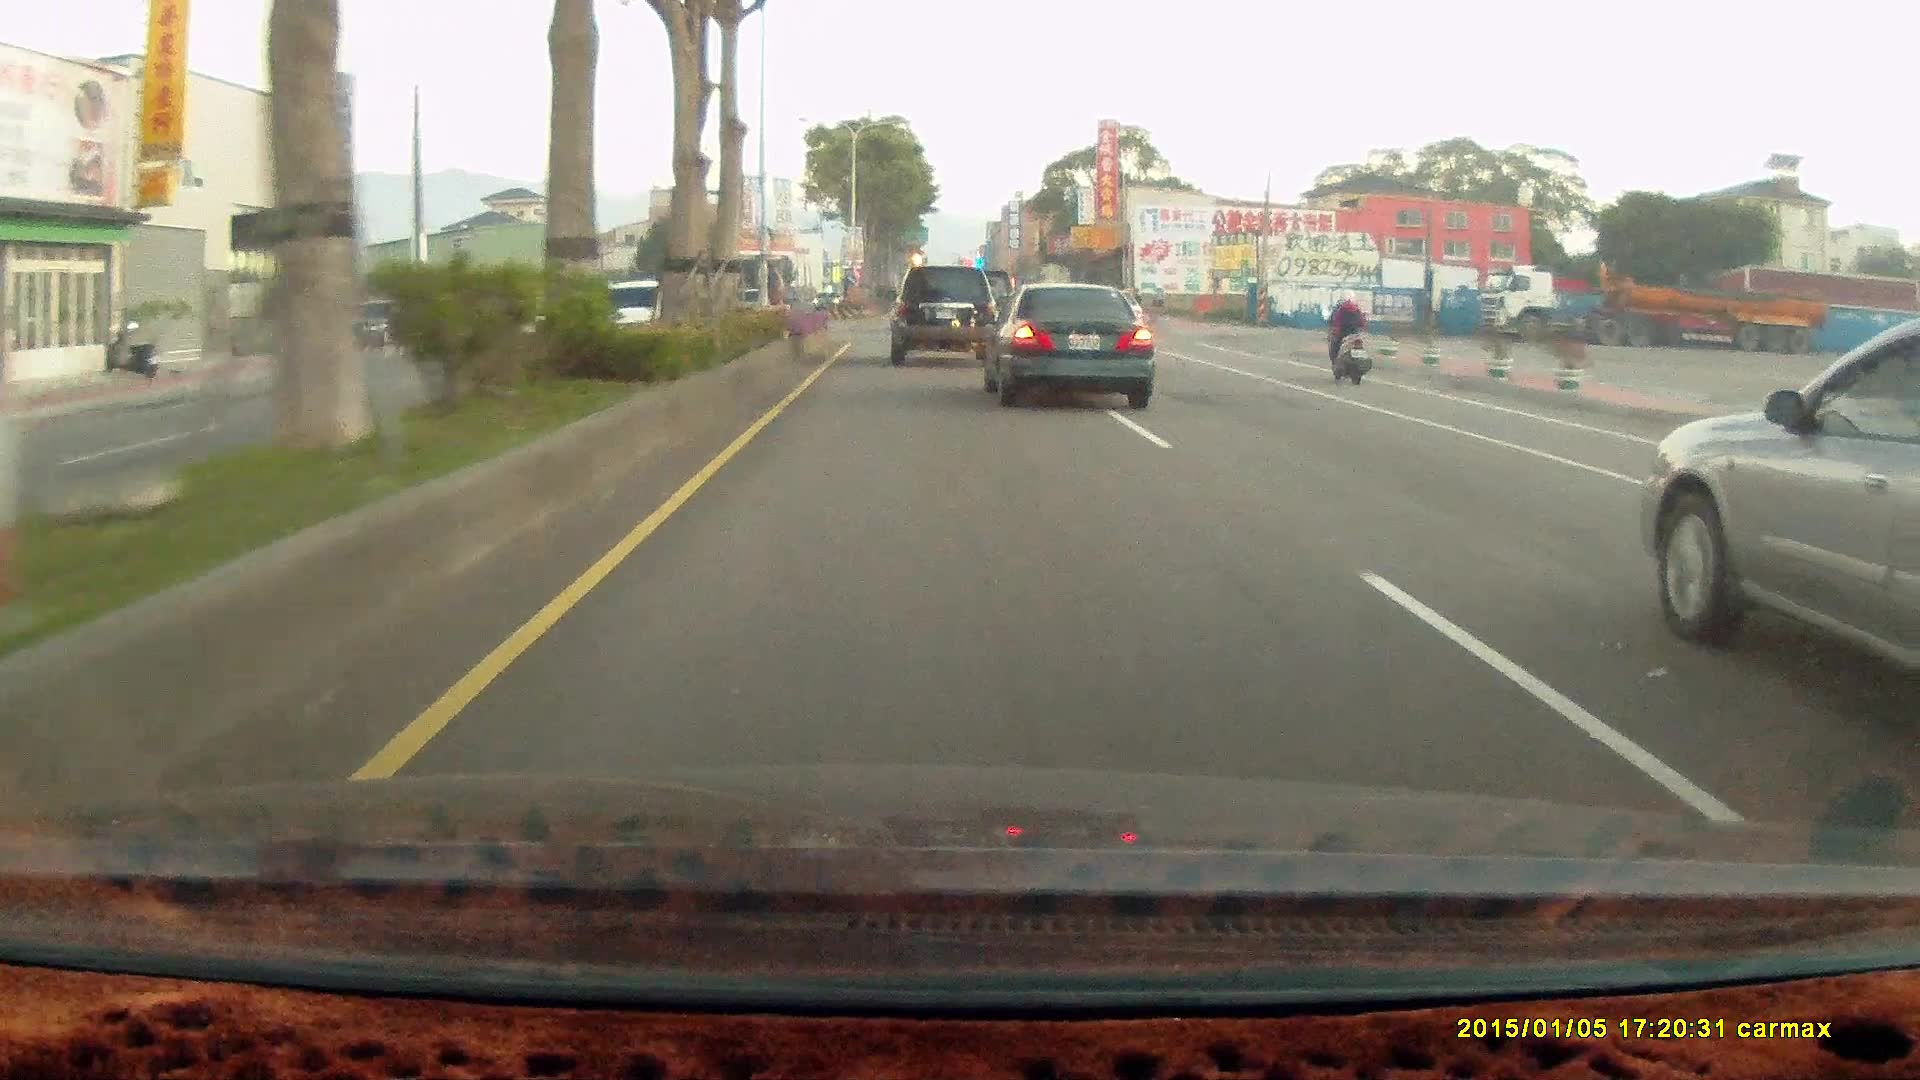rider: (1314, 284, 1380, 391), (1317, 290, 1372, 386)
vehicle: (1644, 309, 1920, 697), (1474, 266, 1824, 354), (976, 279, 1153, 408), (980, 287, 1151, 409), (891, 264, 999, 367), (882, 271, 993, 372), (330, 302, 409, 351)
